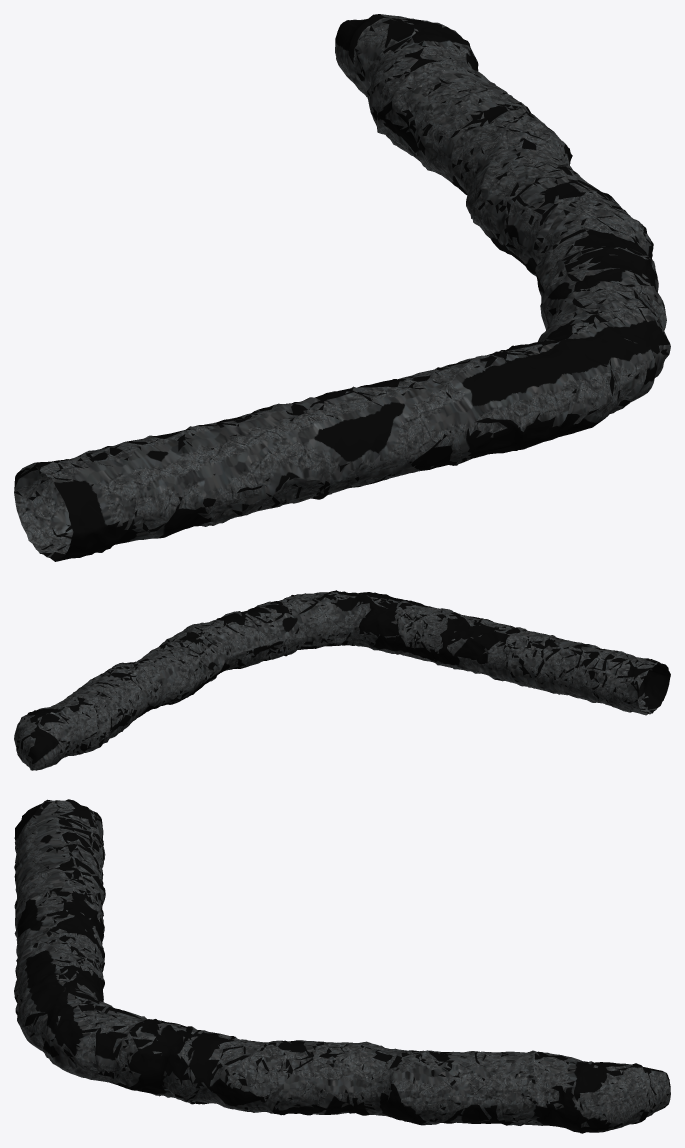
3 renders of one model, top to bottom at view 1: azimuth 30°, elevation 25°; view 2: azimuth 150°, elevation 25°; view 3: azimuth 270°, elevation 25°, orthographic. The views are drawn at different scales.
Parts seen in each view (by area): view 1: Underground; view 2: Underground; view 3: Underground.
Part boxes in pixels (<box>): Underground: <box>14,14,670,561</box>; Underground: <box>14,590,670,770</box>; Underground: <box>14,799,670,1133</box>.
Size of the model in its own units: 8.3 by 0.9082 by 8.08.
1 material, 1 textured.
